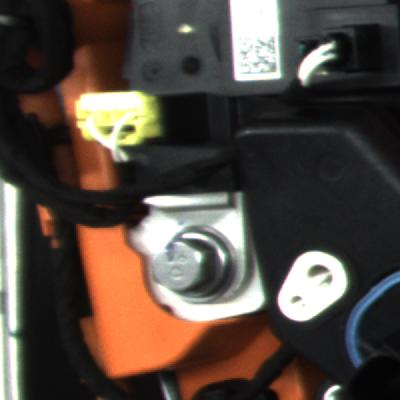nut_b: (143, 219, 242, 313)
